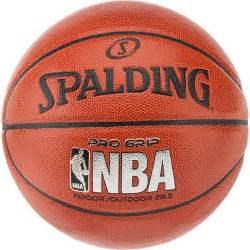basketball: (1, 1, 248, 250)
